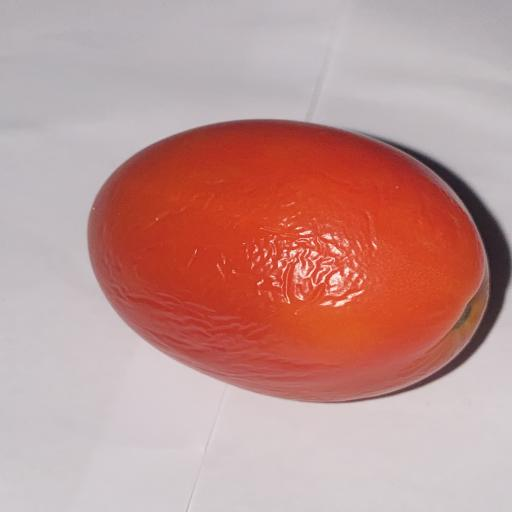overipe: (88, 120, 488, 401)
